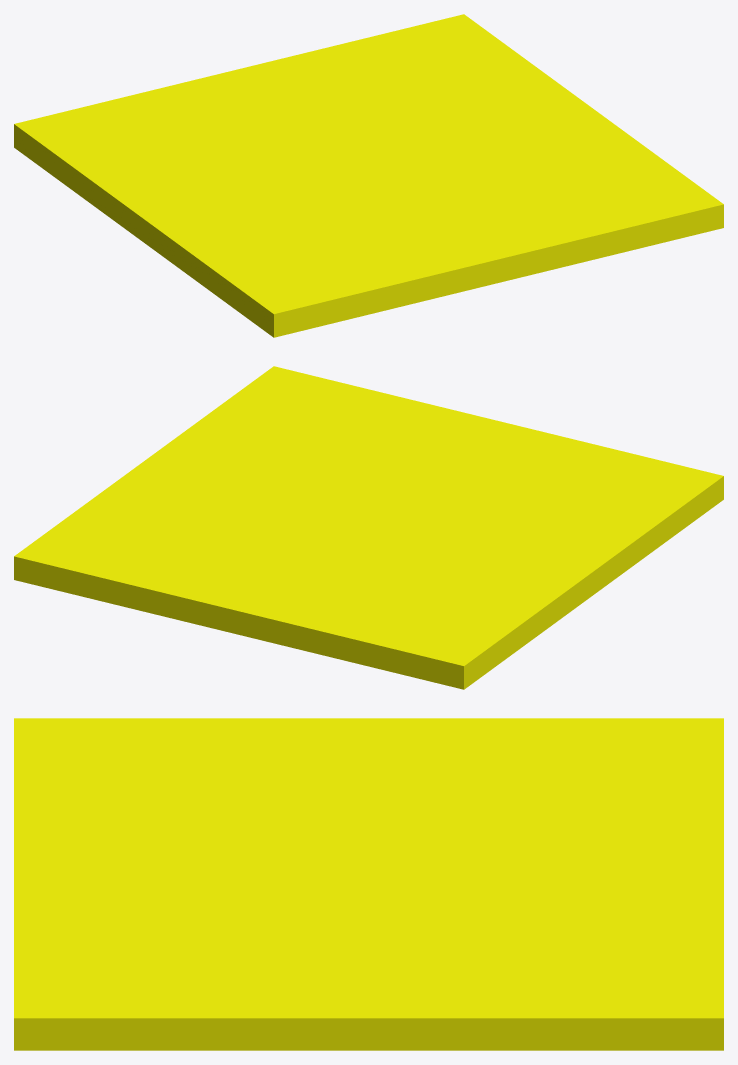
Rendered from kaykit-base.glb.
The picture shows the model from 3 angles, top to bottom: view 1: azimuth 30°, elevation 25°; view 2: azimuth 150°, elevation 25°; view 3: azimuth 270°, elevation 25°; orthographic projection. The views are drawn at different scales.
Visible parts, largest first — view 1: base; view 2: base; view 3: base.
Part boxes in pixels (x1,y1,x2,y2): base: [14, 14, 723, 337]; base: [14, 366, 723, 689]; base: [14, 718, 723, 1050].
Bounding box in the file's own units: 2 × 0.1001 × 2.
